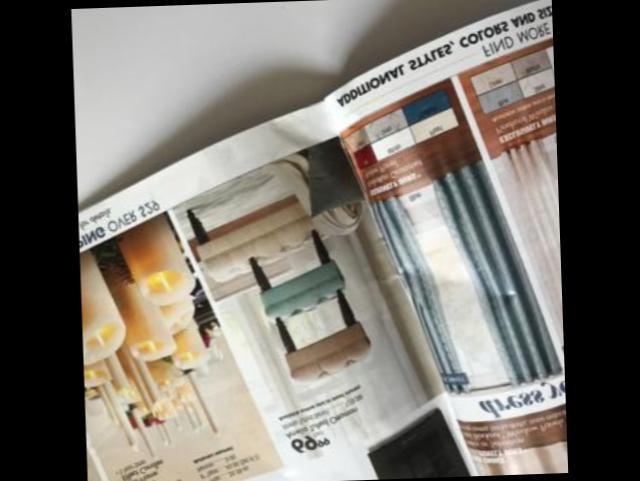cardboard paper: (78, 0, 569, 481)
